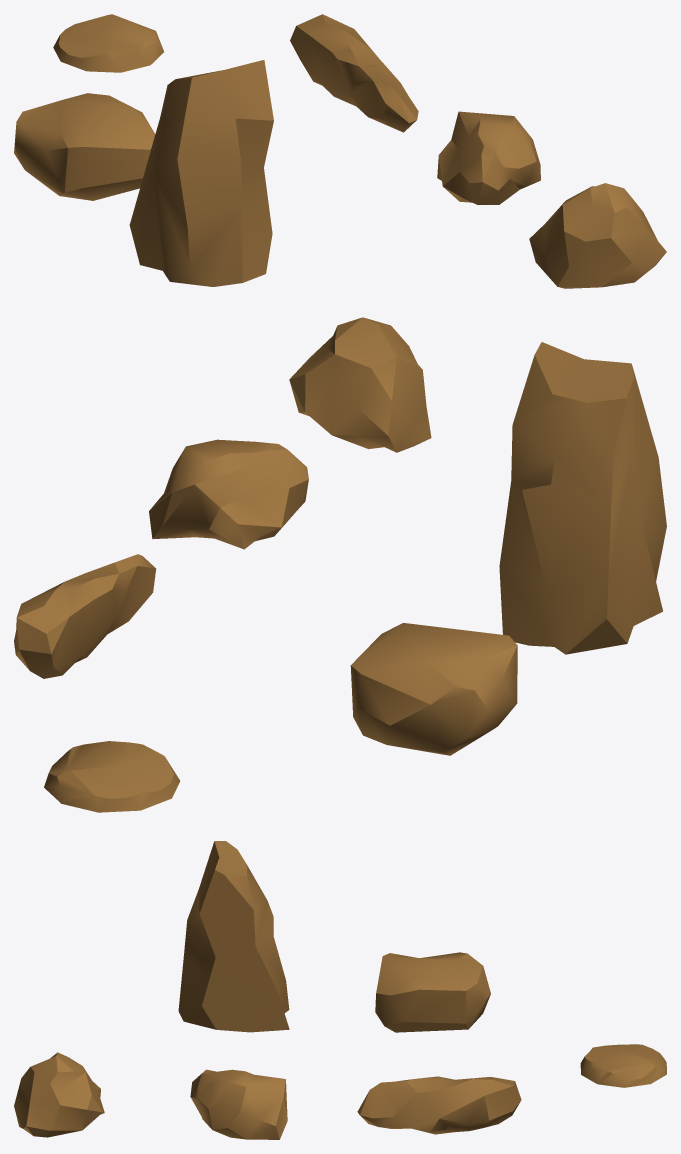
File: Roca.fbx
3 views of the same model, one above another, from view 1: azimuth 30°, elevation 25°; view 2: azimuth 150°, elevation 25°; view 3: azimuth 270°, elevation 25° (orthographic). The views are drawn at different scales.
Visible parts, largest first — view 1: Rock1, Rock6, Rock4, Rock2, Rock3, Rock5; view 2: Rock1, Rock6, Rock4, Rock3, Rock2, Rock5; view 3: Rock1, Rock6, Rock2, Rock3, Rock4, Rock5.
Part boxes in pixels (<box>): Rock1: <box>129,60,273,286</box>; Rock6: <box>14,93,155,200</box>; Rock4: <box>529,183,666,288</box>; Rock2: <box>290,14,418,132</box>; Rock3: <box>437,111,540,204</box>; Rock5: <box>53,14,163,72</box>; Rock1: <box>499,342,666,654</box>; Rock6: <box>350,623,517,755</box>; Rock4: <box>289,317,431,452</box>; Rock3: <box>149,439,308,549</box>; Rock2: <box>14,554,156,678</box>; Rock5: <box>44,741,180,812</box>; Rock1: <box>178,841,289,1032</box>; Rock6: <box>375,952,490,1032</box>; Rock2: <box>357,1076,521,1134</box>; Rock3: <box>190,1069,287,1139</box>; Rock4: <box>14,1052,104,1137</box>; Rock5: <box>580,1044,666,1087</box>.
Bounding box in the file's own units: 19 × 9.78 × 33.54.
